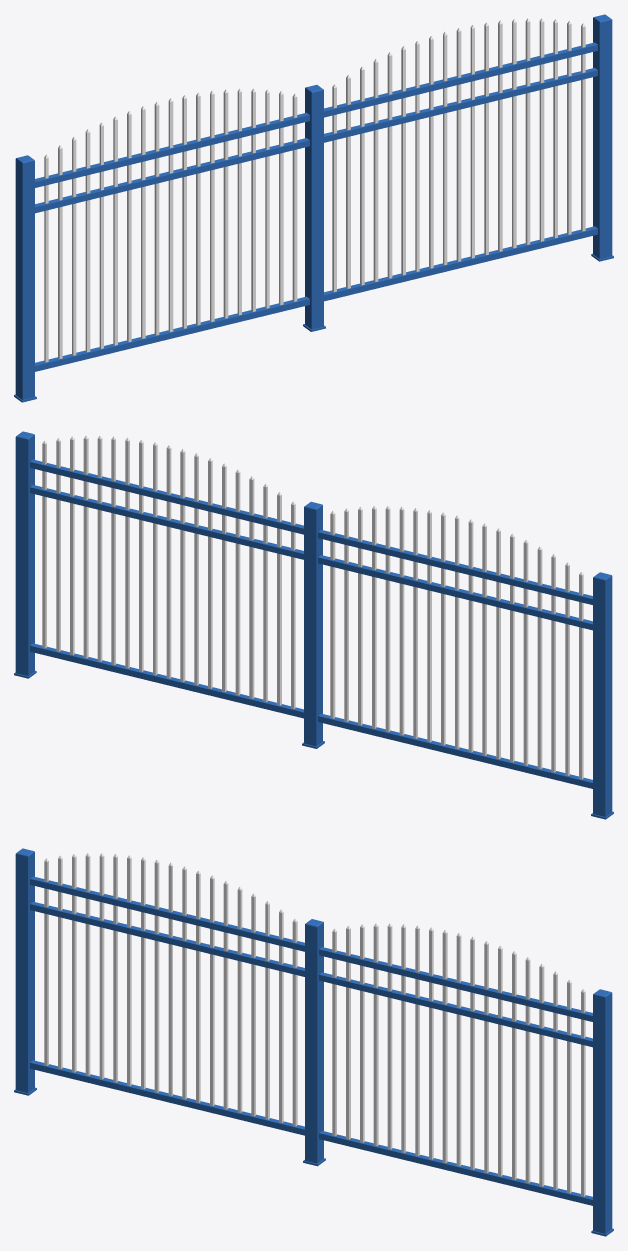
3 renders of one model, top to bottom at view 1: azimuth 30°, elevation 25°; view 2: azimuth 150°, elevation 25°; view 3: azimuth 330°, elevation 25°, orthographic.
Parts seen in each view (by area): view 1: 栏杆; view 2: 栏杆; view 3: 栏杆.
Part boxes in pixels (left/top/right/bottom): 栏杆: left=14, top=14, right=613, bottom=402; 栏杆: left=14, top=431, right=613, bottom=819; 栏杆: left=14, top=848, right=613, bottom=1236.
Size of the model in its own units: 6.34 by 2.7 by 0.1514.
